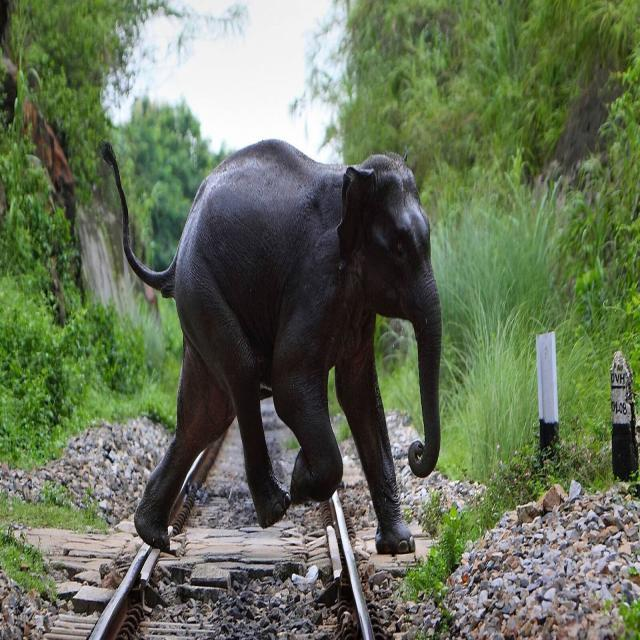Elephant: (98, 95, 454, 571)
